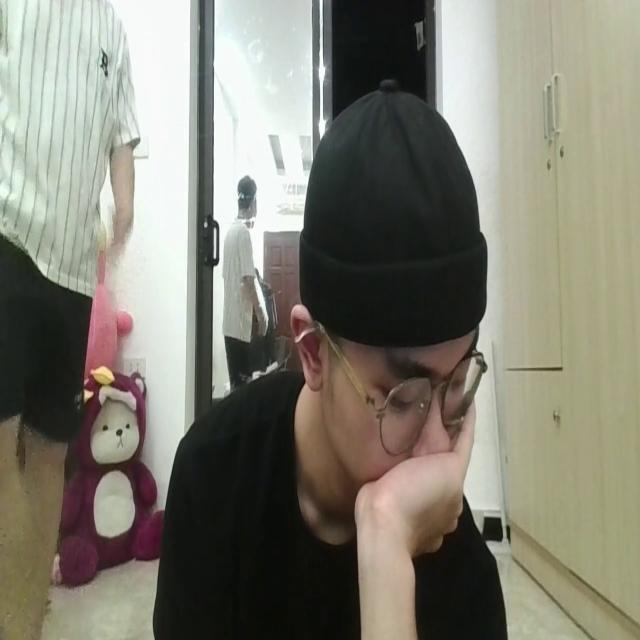extra_person: (0, 0, 137, 640), (218, 162, 265, 392)
student: (139, 71, 507, 640)
